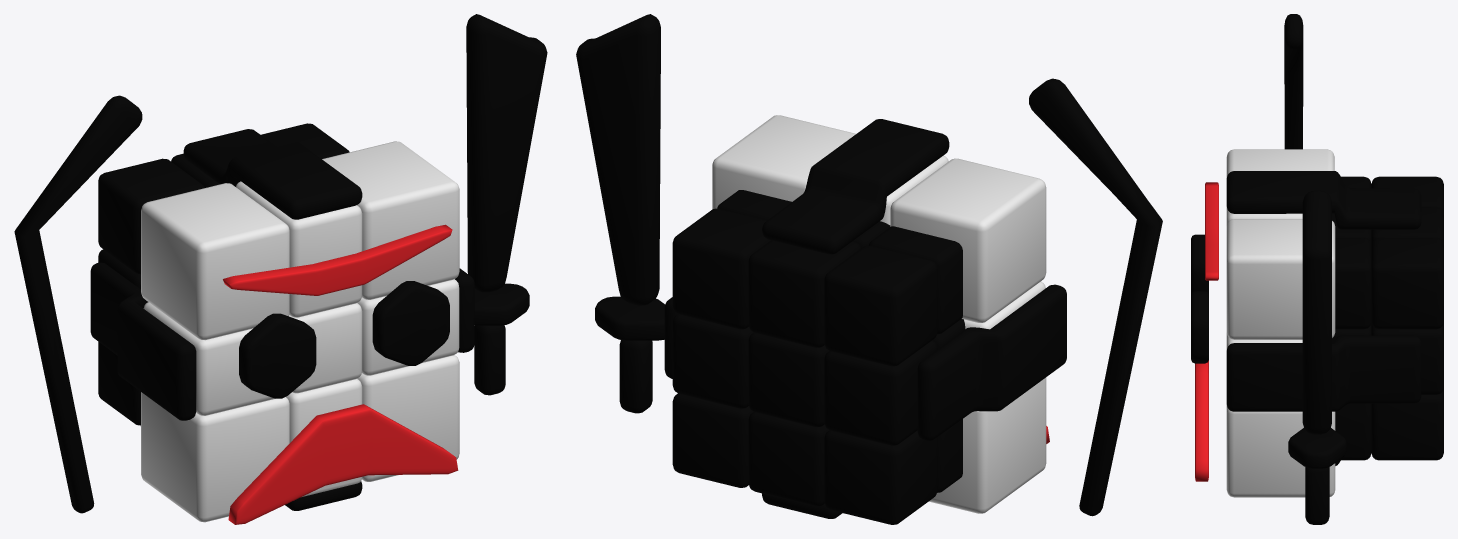
File: Friday13.fbx
3 renders of one model, left to right at view 1: azimuth 30°, elevation 25°; view 2: azimuth 150°, elevation 25°; view 3: azimuth 270°, elevation 25°, orthographic. The views are drawn at different scales.
Visible parts, largest first — view 1: Cube.026, Blade, Cube.024, Lips, Cube.029, Cube.023, Cube.032, Cube.028, Cube.021, Brow, Cube.017, Cube.020 (+12 smaller); view 2: Blade, Cube.026, Cube.032, Cube.029, Cube.028, Cube.017, Cube.015, Cube.024, Cube.014, Cube.016, Cube.011, Cube.023 (+13 smaller); view 3: Cube.030, Cube.023, Cube.028, Blade, Cube.021, Cube.014, Cube.012, Cube.005, Cube.029, Cube.026, Cube.013, Guard (+12 smaller).
Boxes of the visible parts, box(x1,y1,x2,y2) form: Cube.026: box(141, 183, 289, 340); Blade: box(466, 14, 547, 292); Cube.024: box(141, 392, 289, 522); Lips: box(228, 404, 458, 524); Cube.029: box(14, 95, 142, 513); Cube.023: box(322, 141, 459, 299); Cube.032: box(90, 262, 196, 420); Cube.028: box(183, 129, 362, 219); Cube.021: box(357, 355, 459, 481); Brow: box(223, 224, 452, 295); Cube.017: box(98, 158, 204, 273); Cube.020: box(236, 181, 362, 317); Blade: box(576, 14, 660, 305); Cube.026: box(890, 158, 1046, 322); Cube.032: box(917, 284, 1066, 440); Cube.029: box(1029, 78, 1162, 516); Cube.028: box(762, 119, 949, 254); Cube.017: box(824, 245, 937, 366); Cube.015: box(824, 430, 937, 524); Cube.024: box(929, 377, 1046, 513); Cube.014: box(672, 208, 770, 329); Cube.016: box(824, 340, 937, 445); Cube.011: box(748, 240, 860, 347); Cube.023: box(712, 115, 855, 209); Cube.030: box(1226, 335, 1421, 411); Cube.023: box(1226, 219, 1335, 339); Cube.028: box(1226, 171, 1421, 229); Blade: box(1302, 190, 1331, 434); Cube.021: box(1226, 405, 1335, 497); Cube.014: box(1371, 238, 1443, 329); Cube.012: box(1371, 388, 1443, 460); Cube.005: box(1335, 238, 1371, 329); Cube.029: box(1284, 14, 1303, 149); Cube.026: box(1226, 149, 1334, 177); Cube.013: box(1371, 322, 1443, 394); Guard: box(1288, 428, 1346, 468).
Size of the model in its own units: 747 by 558 by 349.
